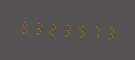eight: (17, 16, 30, 37)
five: (73, 20, 86, 41)
seven: (87, 21, 100, 42)
three: (31, 17, 44, 38), (59, 19, 72, 40), (101, 22, 114, 43)
two: (45, 18, 58, 39)
